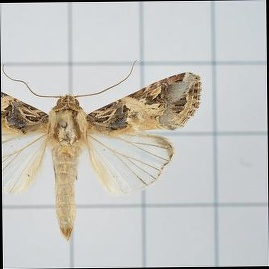Spodoptera litura: (2, 59, 203, 241)
